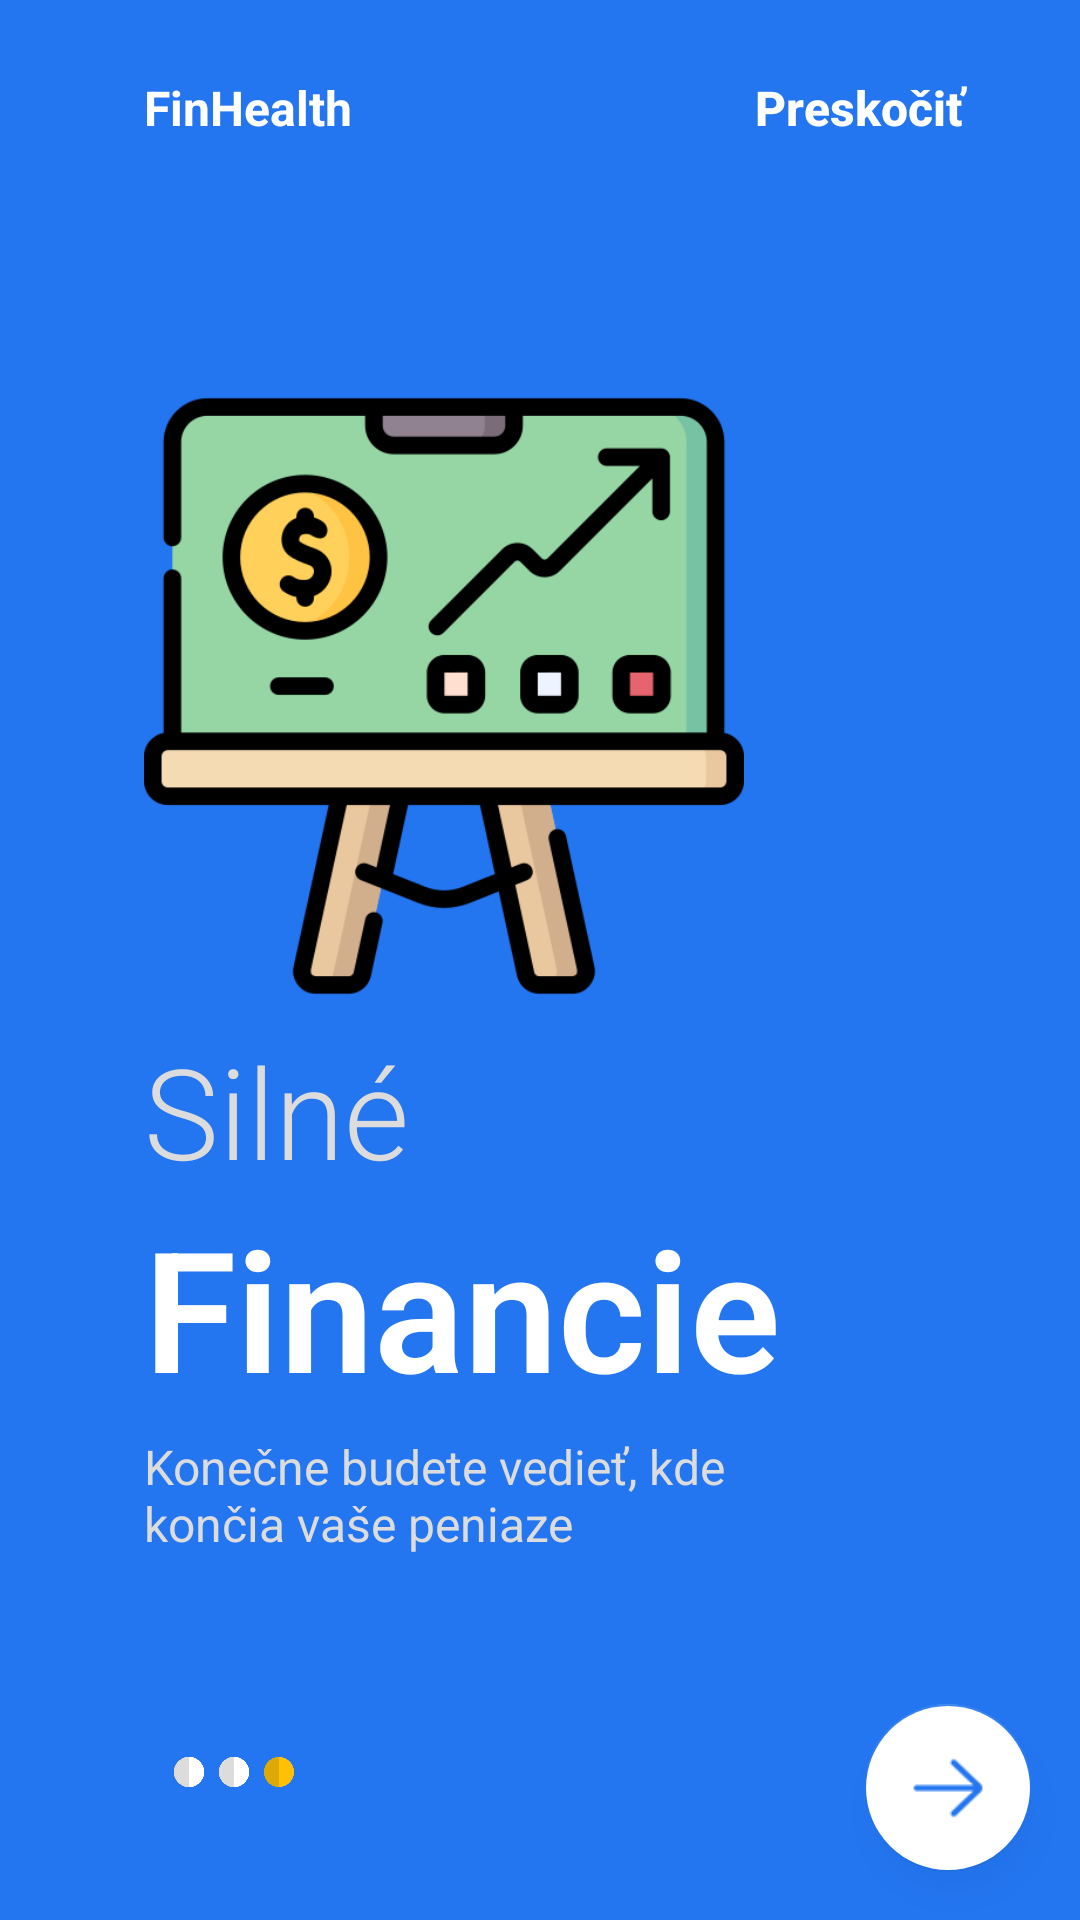

Icon click points for this 1080 x 1920 phone screenshot, format (x=x, y=y):
dots: (x=234, y=1772)
next: (x=948, y=1787)
